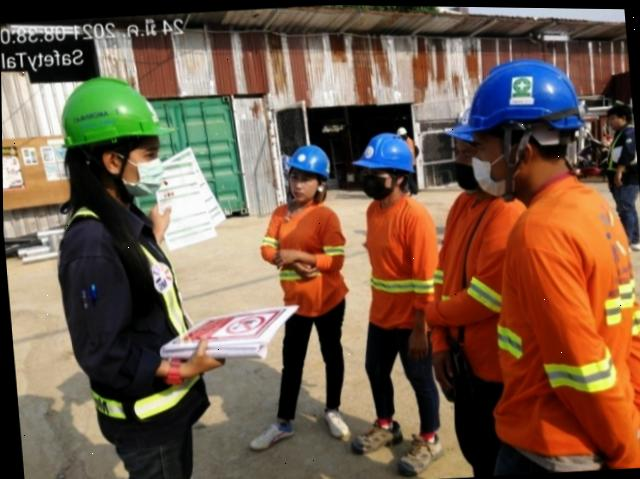helmet: (443, 54, 579, 145), (53, 68, 173, 144), (344, 125, 416, 172), (280, 142, 333, 181), (443, 106, 486, 140), (610, 139, 636, 161)
vest: (490, 175, 640, 459), (52, 203, 196, 420), (438, 192, 523, 372), (360, 196, 436, 324), (261, 204, 349, 311), (602, 122, 637, 176)
